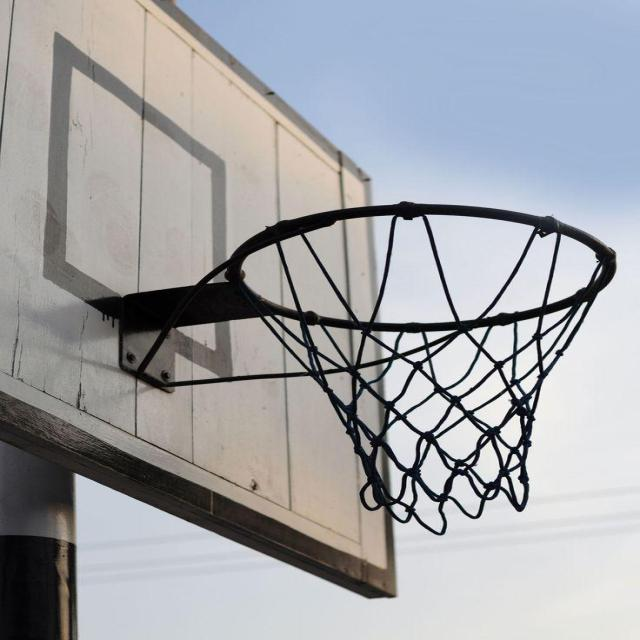hoop: (155, 221, 600, 527)
